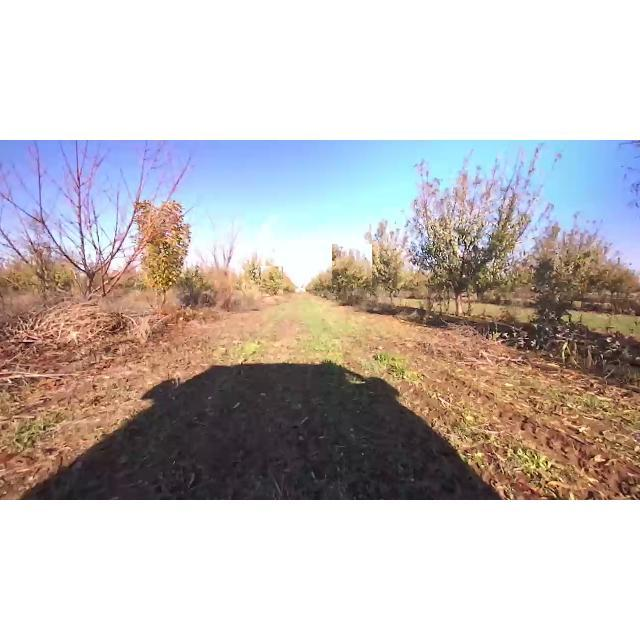direk: (1, 144, 190, 300), (398, 146, 538, 324), (524, 218, 628, 334), (124, 198, 196, 314), (358, 212, 412, 310), (198, 210, 252, 308), (332, 244, 372, 300), (261, 266, 283, 296)
